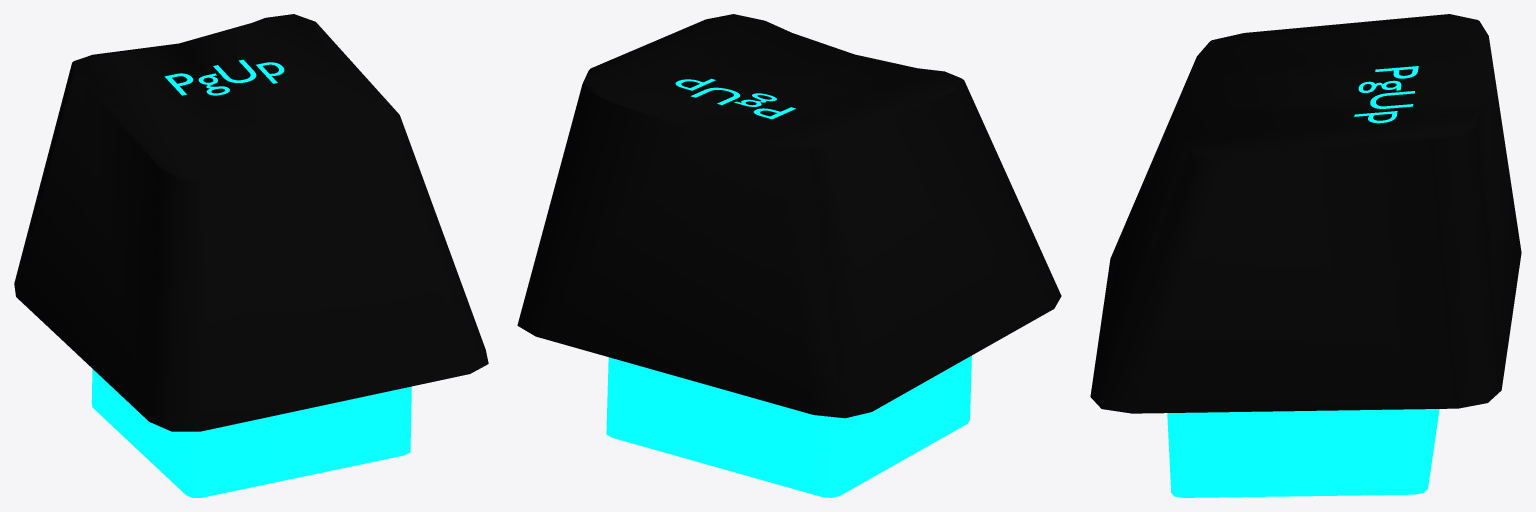
Rendered from key_pageup-2Zd6JFJq.glb.
3 views of the same model, side by side, from view 1: azimuth 30°, elevation 25°; view 2: azimuth 150°, elevation 25°; view 3: azimuth 270°, elevation 25° (orthographic). The views are drawn at different scales.
Parts seen in each view (by area): view 1: StudyShelf_1064; view 2: StudyShelf_1064; view 3: StudyShelf_1064.
Boxes of the visible parts, <box> form: StudyShelf_1064: <box>14,14,488,497</box>; StudyShelf_1064: <box>517,14,1061,497</box>; StudyShelf_1064: <box>1090,14,1521,497</box>.
Bounding box in the file's own units: 4.35 × 4.14 × 4.35.
